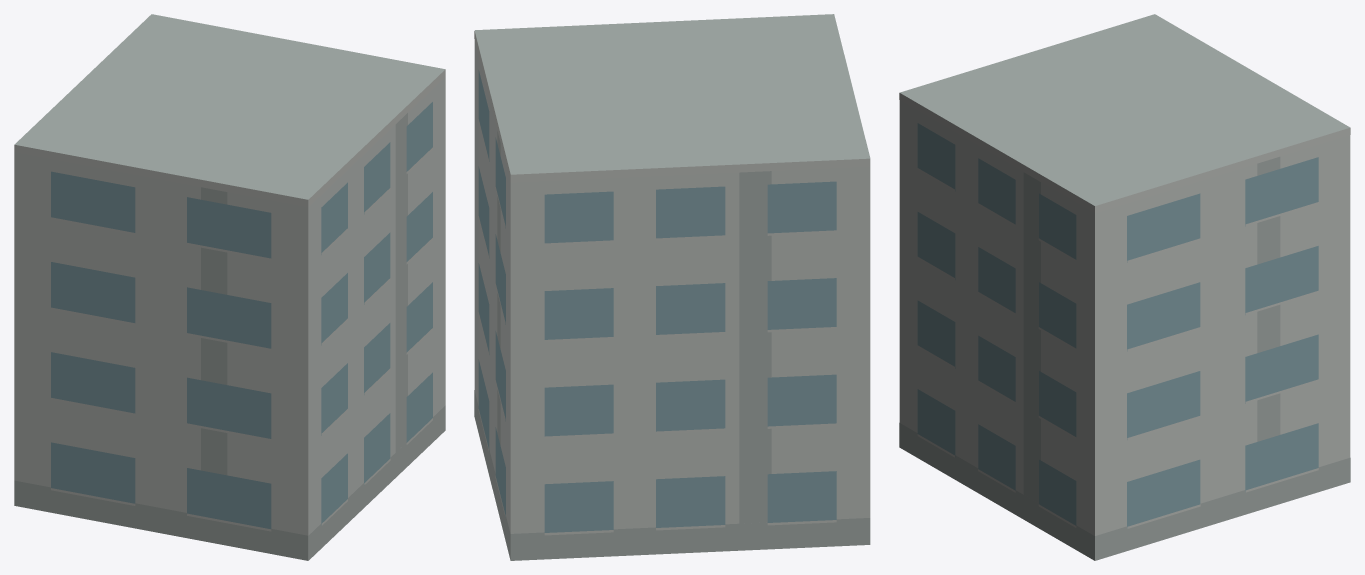
Rendered from residential-7a2a2ef3-0d35-4e63-b976-4b42d66e157e.glb.
3 renders of one model, left to right at view 1: azimuth 30°, elevation 25°; view 2: azimuth 150°, elevation 25°; view 3: azimuth 270°, elevation 25°, orthographic. The views are drawn at different scales.
Visible parts, largest first — view 1: residential-7a2a2ef3-0d35-4e63-b976-4b42d66e157e.tmp; view 2: residential-7a2a2ef3-0d35-4e63-b976-4b42d66e157e.tmp; view 3: residential-7a2a2ef3-0d35-4e63-b976-4b42d66e157e.tmp.
Boxes of the visible parts, bbox=[...] form: residential-7a2a2ef3-0d35-4e63-b976-4b42d66e157e.tmp: bbox=[14, 14, 445, 560]; residential-7a2a2ef3-0d35-4e63-b976-4b42d66e157e.tmp: bbox=[474, 14, 870, 560]; residential-7a2a2ef3-0d35-4e63-b976-4b42d66e157e.tmp: bbox=[899, 14, 1350, 560].
Bounding box in the file's own units: 13.6 × 11.7 × 13.49.
